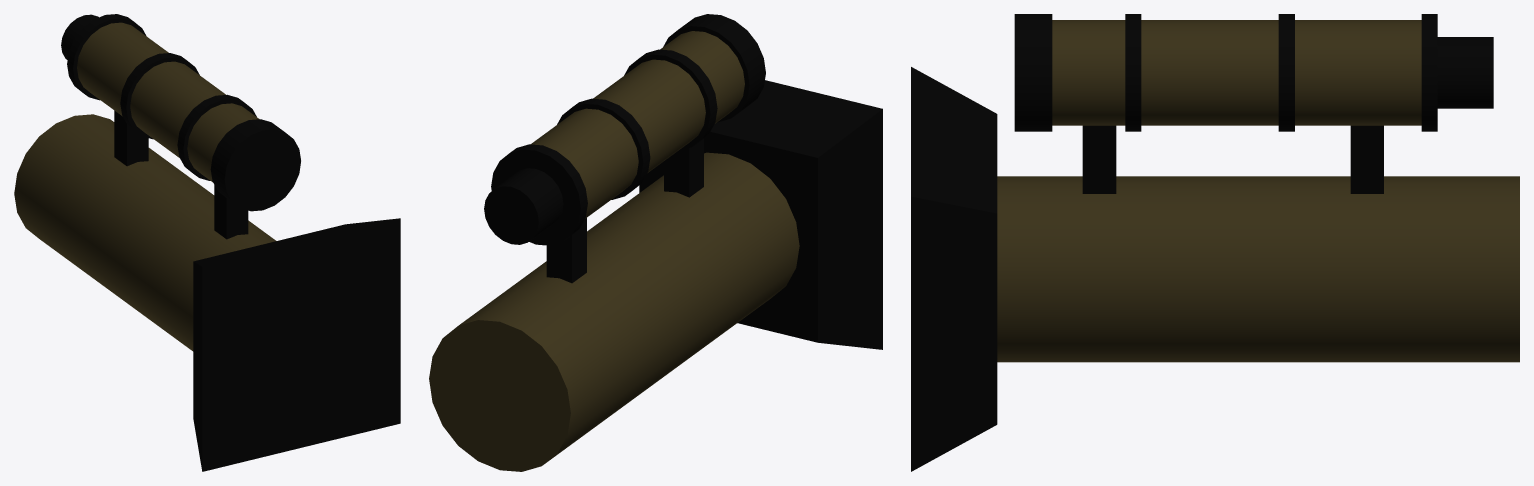
Rendered from Worms_RPG.fbx.
3 renders of one model, left to right at view 1: azimuth 30°, elevation 25°; view 2: azimuth 150°, elevation 25°; view 3: azimuth 270°, elevation 25°, orthographic. The views are drawn at different scales.
Visible parts, largest first — view 1: Worms_RPG_FAT; view 2: Worms_RPG_FAT; view 3: Worms_RPG_FAT.
Boxes of the visible parts, x1,y1,x2,y2 form: Worms_RPG_FAT: [14, 14, 400, 471]; Worms_RPG_FAT: [429, 14, 882, 471]; Worms_RPG_FAT: [911, 14, 1519, 471].
Bounding box in the file's own units: 1.29 × 1.8 × 2.56.
